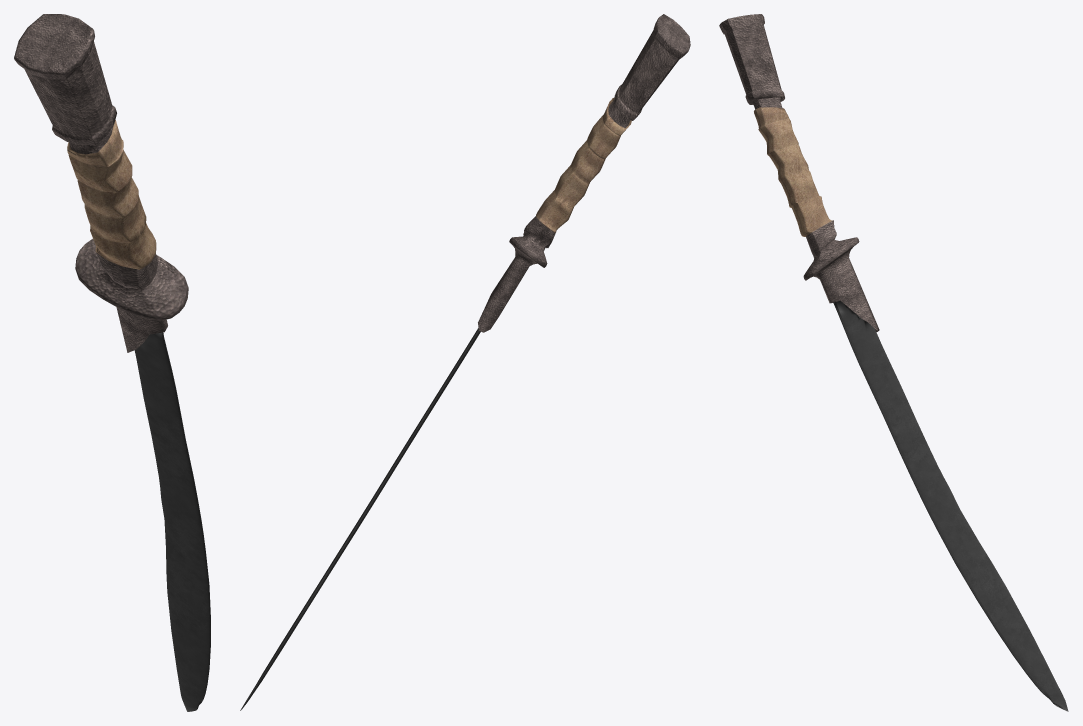
Rendered from Fin_saber.fbx.
3 views of the same model, side by side, from view 1: azimuth 30°, elevation 25°; view 2: azimuth 150°, elevation 25°; view 3: azimuth 270°, elevation 25° (orthographic). The views are drawn at different scales.
Parts seen in each view (by area): view 1: pasted__pCube7; view 2: pasted__pCube7; view 3: pasted__pCube7.
Boxes of the visible parts, x1=… form: pasted__pCube7: x1=14, y1=14, x2=210, y2=711; pasted__pCube7: x1=240, y1=14, x2=690, y2=710; pasted__pCube7: x1=719, y1=14, x2=1068, y2=711.
Size of the model in its own units: 7.76 by 16.75 by 9.08.
